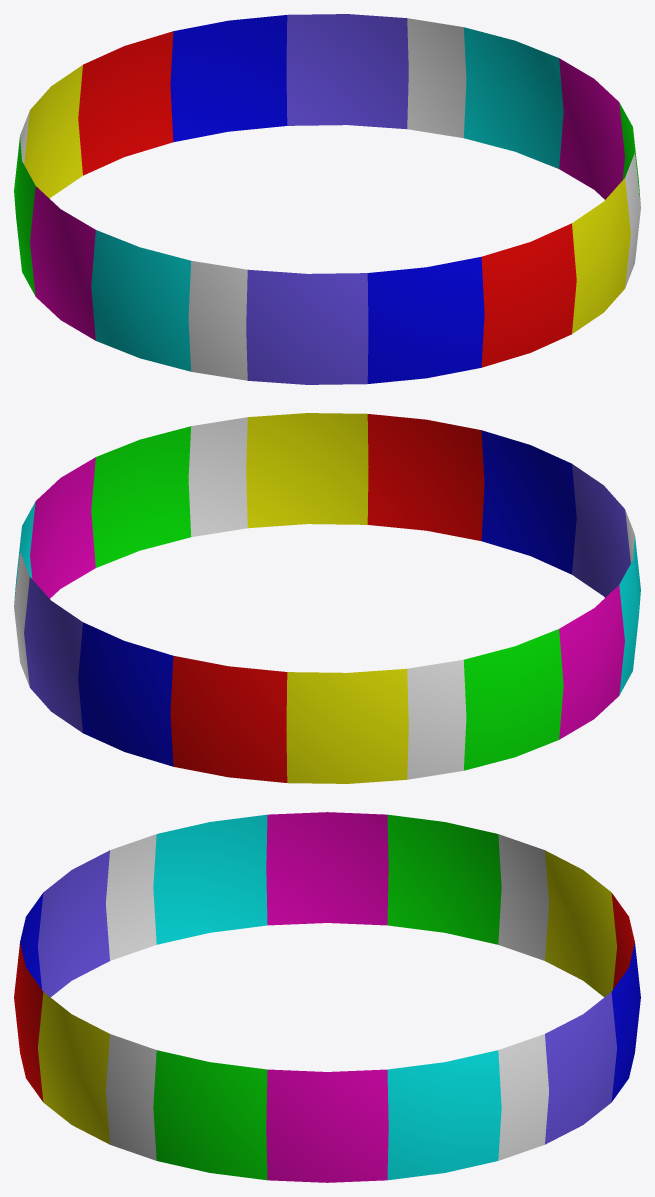
The picture shows the model from 3 angles, top to bottom: view 1: azimuth 30°, elevation 25°; view 2: azimuth 150°, elevation 25°; view 3: azimuth 270°, elevation 25°; orthographic projection.
Parts seen in each view (by area): view 1: Объект_Сфера; view 2: Объект_Сфера; view 3: Объект_Сфера.
Boxes of the visible parts, x1,y1,x2,y2 form: Объект_Сфера: (14,14,640,384); Объект_Сфера: (14,413,640,783); Объект_Сфера: (14,812,640,1182).
Size of the model in its own units: 100 by 19.51 by 100.
